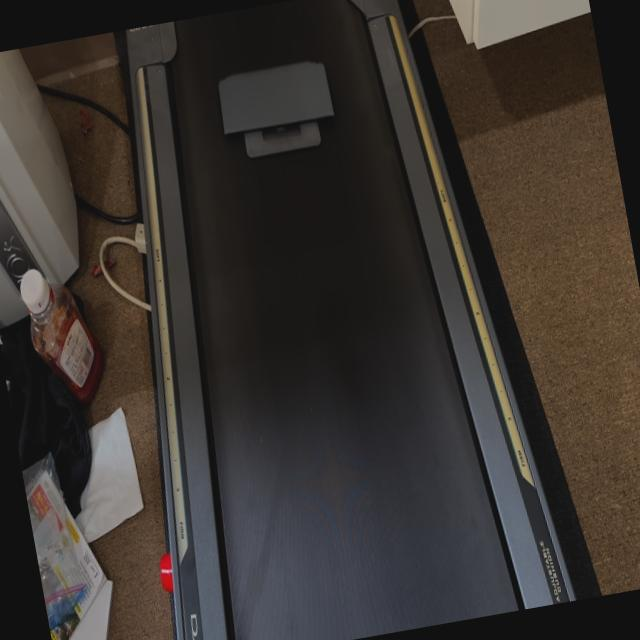Trash: (210, 48, 346, 172)
